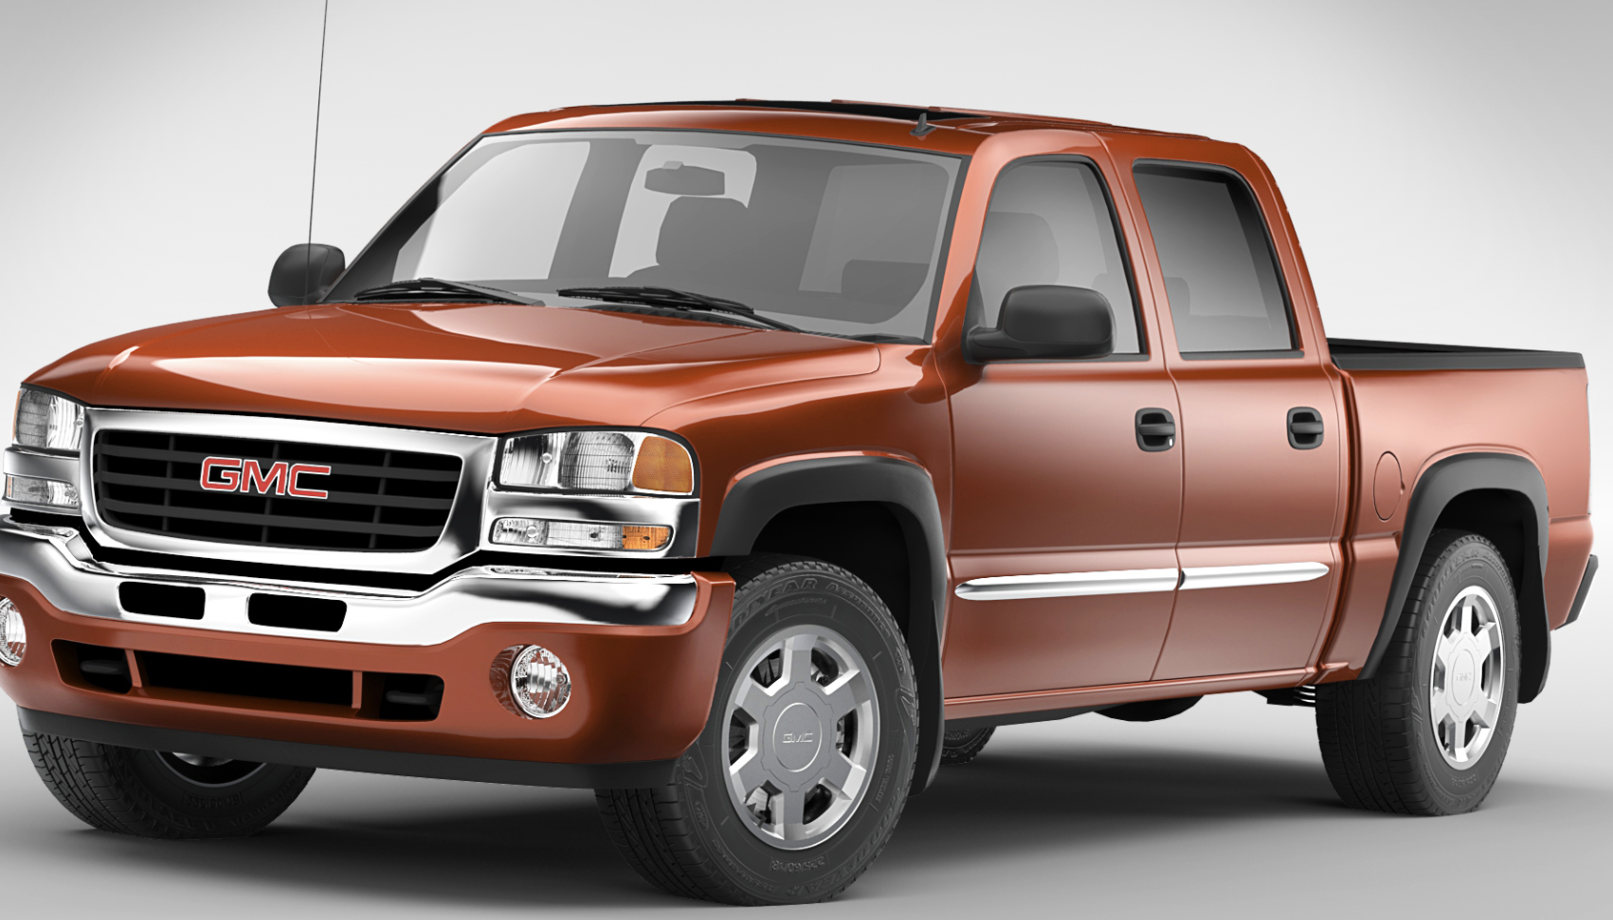hatch: (1369, 446, 1408, 527)
